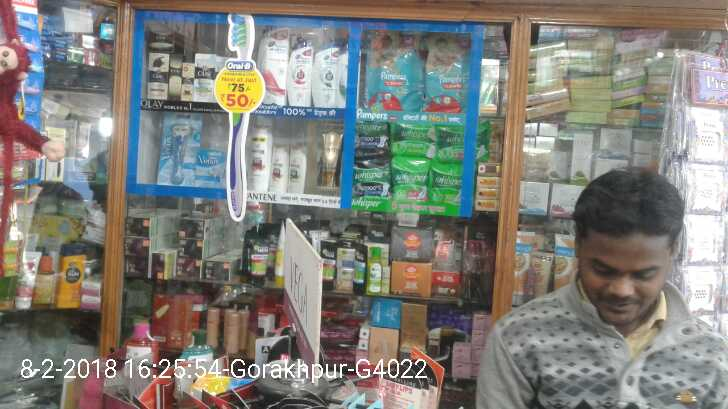venus: (160, 111, 194, 185), (194, 151, 226, 185)
